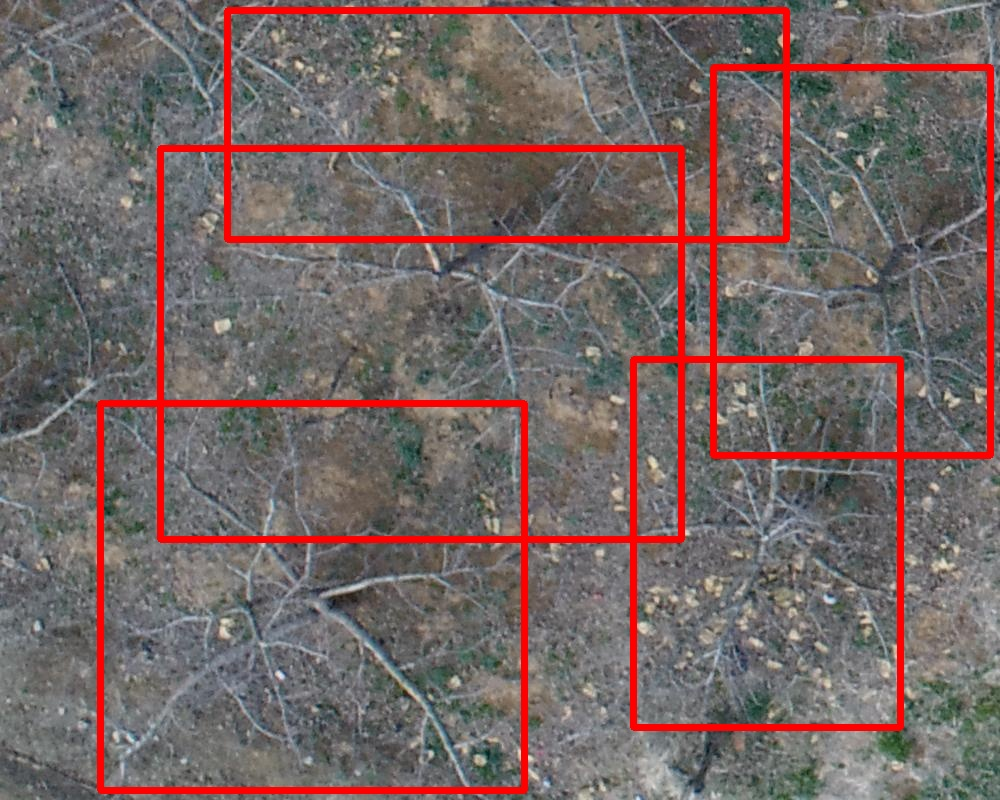apple: (160, 148, 681, 539), (100, 403, 524, 790), (227, 10, 786, 239), (713, 67, 990, 455), (633, 359, 900, 727)
